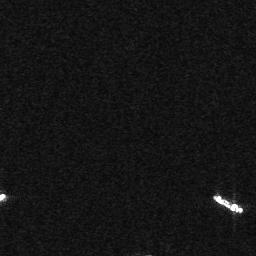ship: (212, 192, 243, 215)
